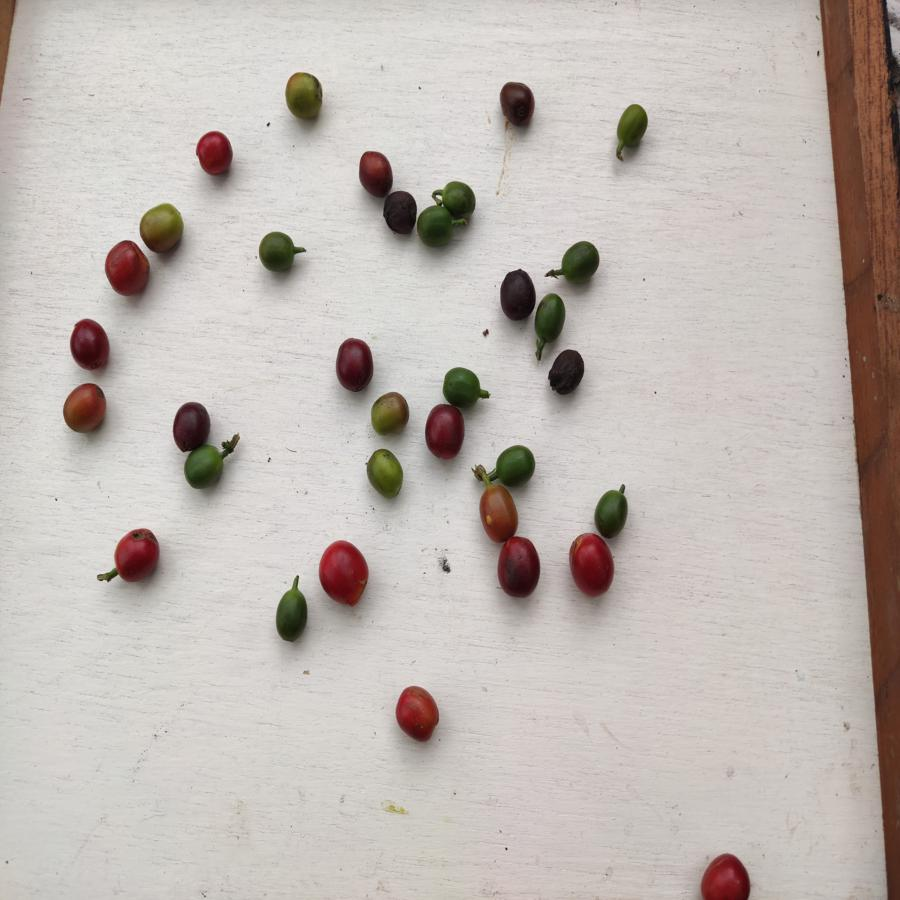Inmaduro: (588, 483, 634, 539), (270, 589, 310, 646), (559, 239, 602, 287), (184, 446, 227, 491), (494, 444, 538, 486), (614, 101, 650, 150), (534, 291, 567, 342), (256, 232, 297, 273), (442, 363, 481, 406), (418, 206, 454, 250), (437, 179, 476, 219)
Maduro: (316, 540, 371, 608), (112, 528, 169, 589), (567, 533, 616, 597), (393, 684, 444, 744), (698, 849, 754, 900), (103, 241, 152, 299), (193, 131, 237, 176)
Pinton: (61, 384, 112, 439), (284, 71, 329, 129), (139, 199, 184, 254), (364, 450, 411, 501), (478, 484, 521, 537), (369, 392, 409, 436)
Sobremaduro: (499, 534, 540, 602), (422, 403, 464, 459), (334, 336, 376, 392), (69, 319, 111, 373), (496, 77, 536, 131), (548, 346, 588, 395), (170, 402, 213, 447), (500, 267, 535, 322), (356, 149, 395, 198), (384, 191, 416, 239)
